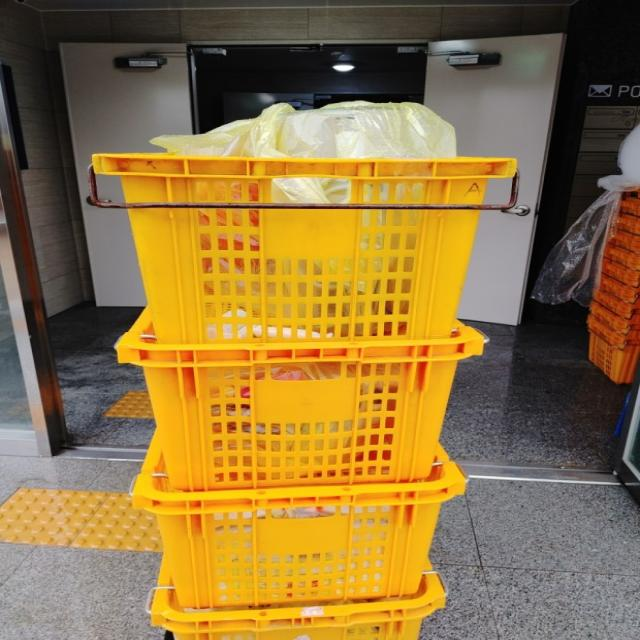basket: (112, 309, 486, 504), (128, 437, 468, 621), (128, 203, 480, 344), (91, 152, 517, 208), (147, 573, 447, 640)
